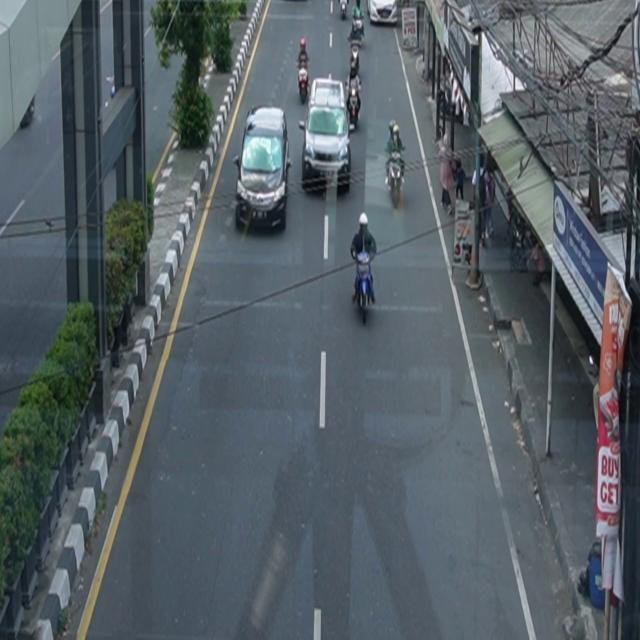car: (233, 105, 294, 233), (300, 76, 353, 194), (367, 1, 398, 26)
